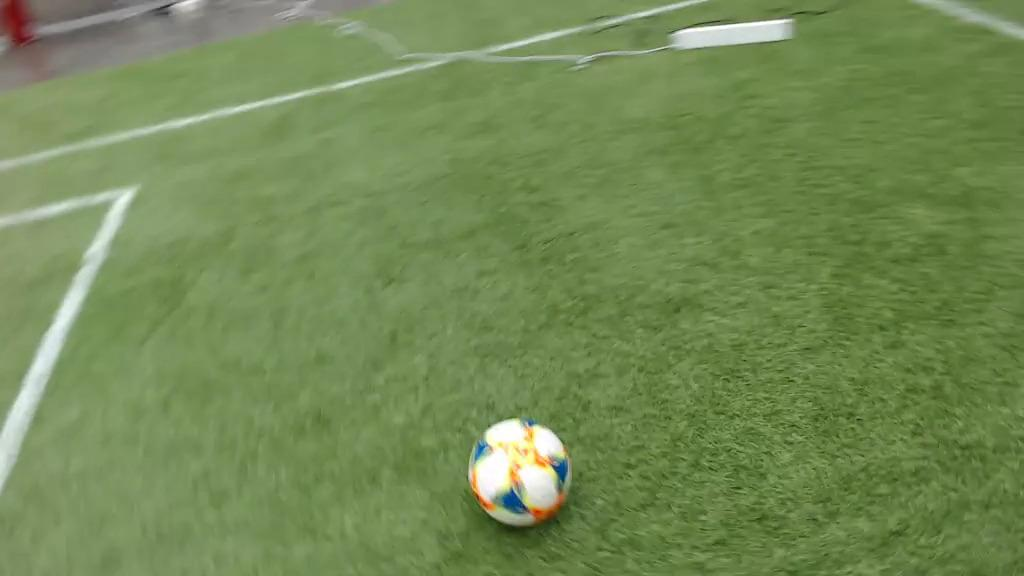ball: (467, 417, 571, 529)
